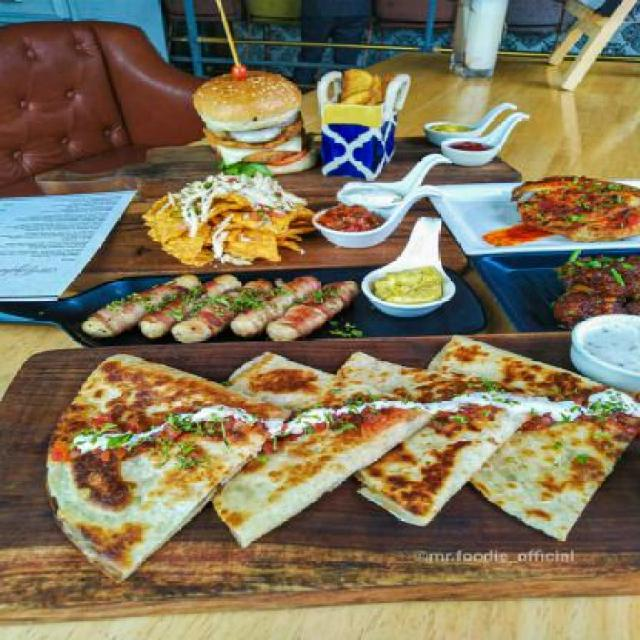chicken quesadilla: (38, 347, 639, 585)
chicken wings: (547, 249, 639, 323)
french fries: (331, 66, 409, 134)
guacamole: (370, 262, 461, 316), (422, 110, 486, 138)
hamburger: (186, 60, 320, 174)
nachos: (138, 166, 320, 269)
